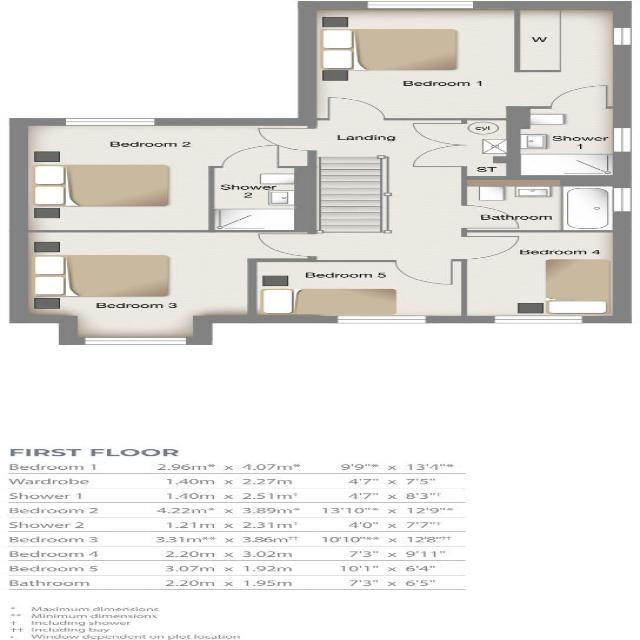DOOR: (461, 232, 525, 260), (255, 125, 318, 151), (393, 259, 455, 285), (324, 96, 390, 120), (255, 232, 315, 258), (546, 84, 611, 108), (462, 205, 522, 229), (220, 145, 280, 168)
ROOM: (297, 0, 633, 121), (11, 230, 318, 345), (9, 118, 318, 232), (461, 230, 633, 324), (249, 258, 468, 324)
WINDOW: (364, 0, 475, 9), (62, 117, 159, 126), (80, 337, 189, 345), (490, 315, 584, 324), (334, 316, 429, 324), (611, 186, 633, 212), (612, 127, 633, 153), (610, 25, 633, 46)
